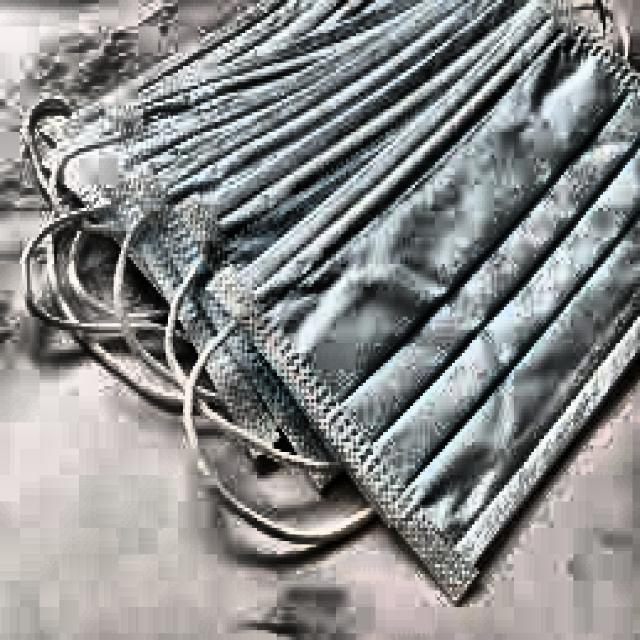trash: (57, 0, 640, 604)
